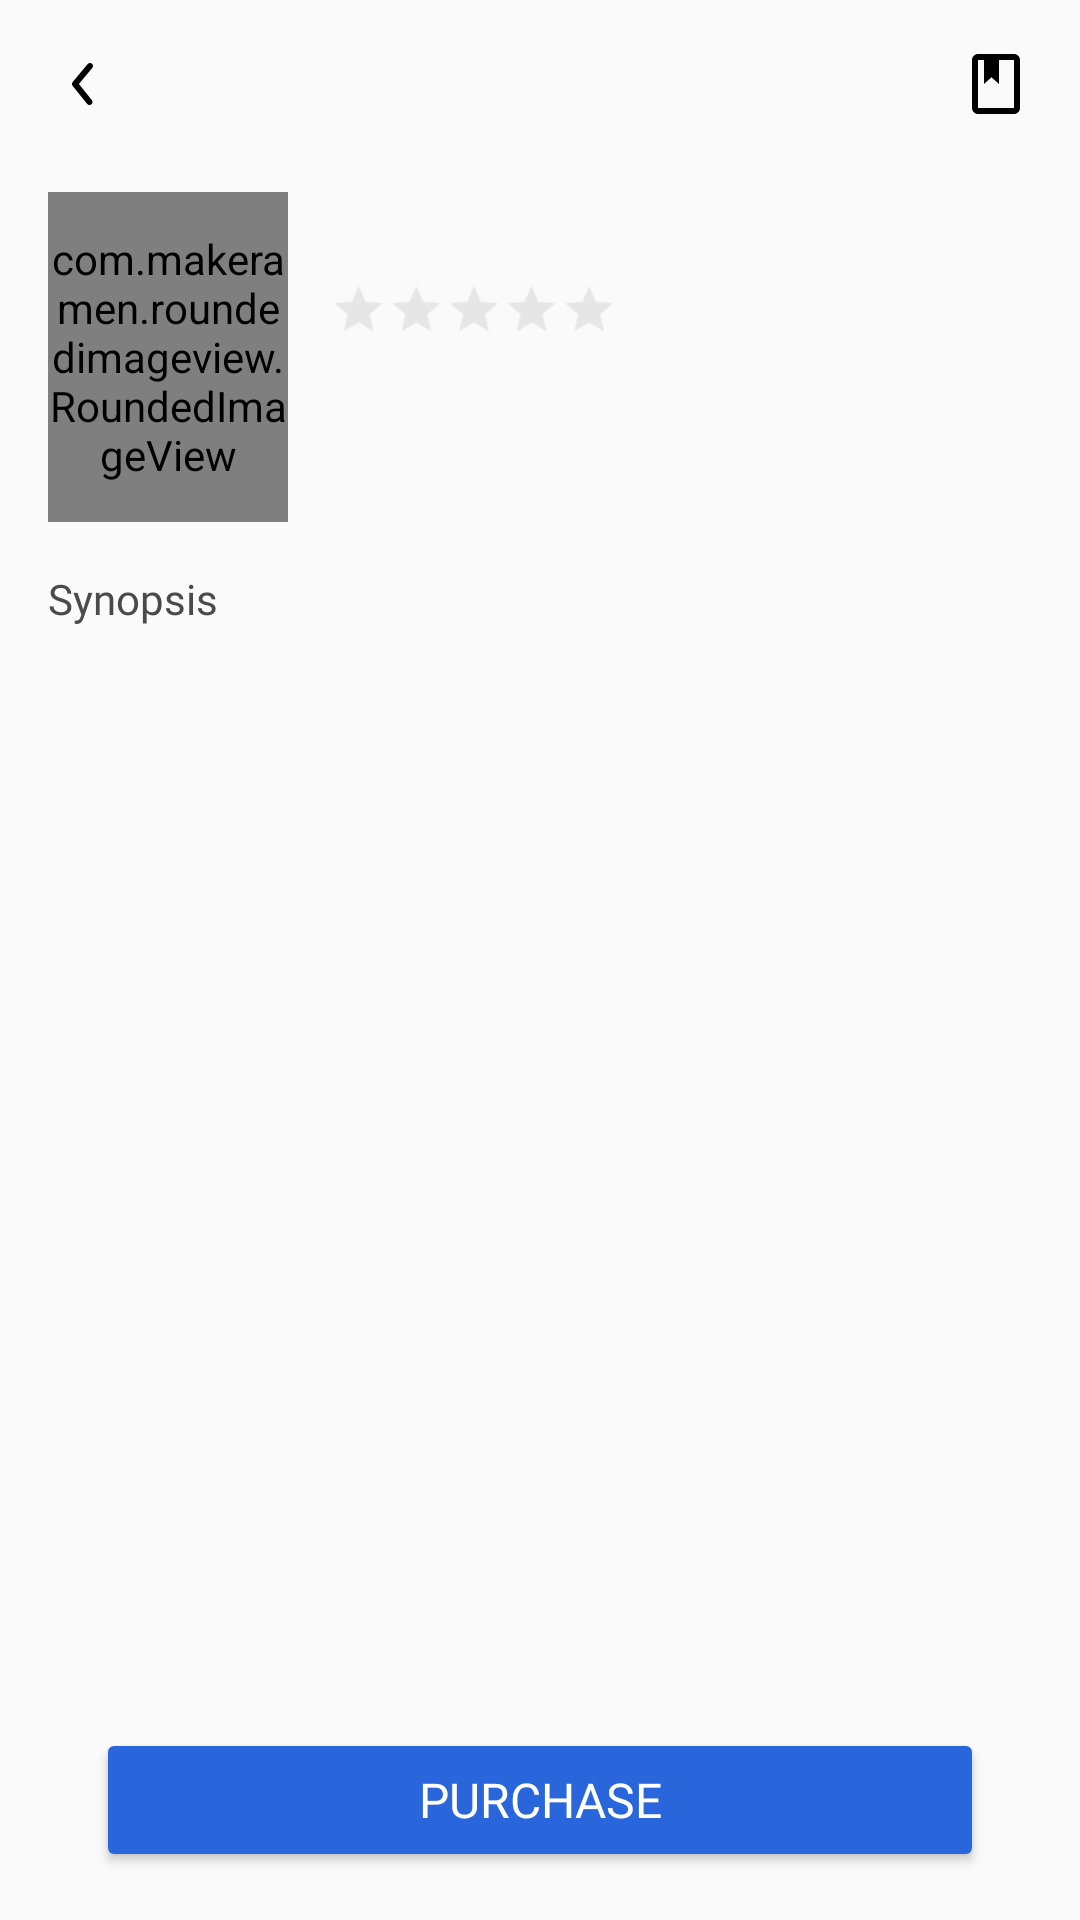

Where to tap for icons on this 1080w x 1920h app screen, as [x,y]:
Icon back: [82,84]
icon bookmark: [996,84]
